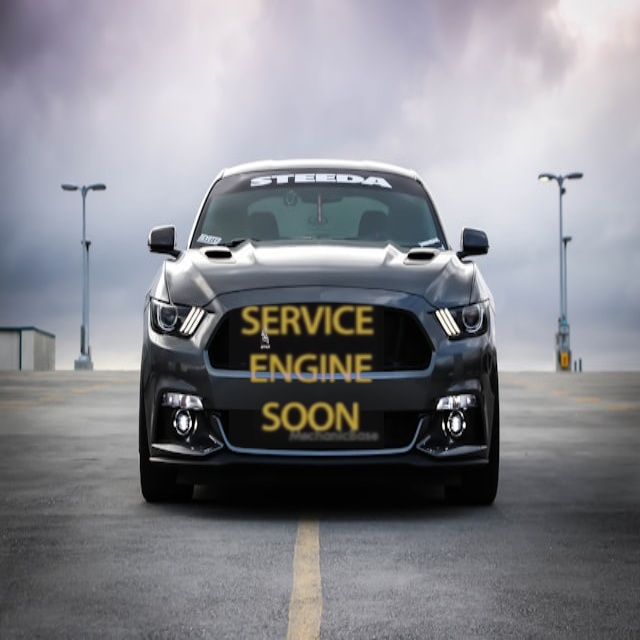symbol: (229, 293, 384, 448)
